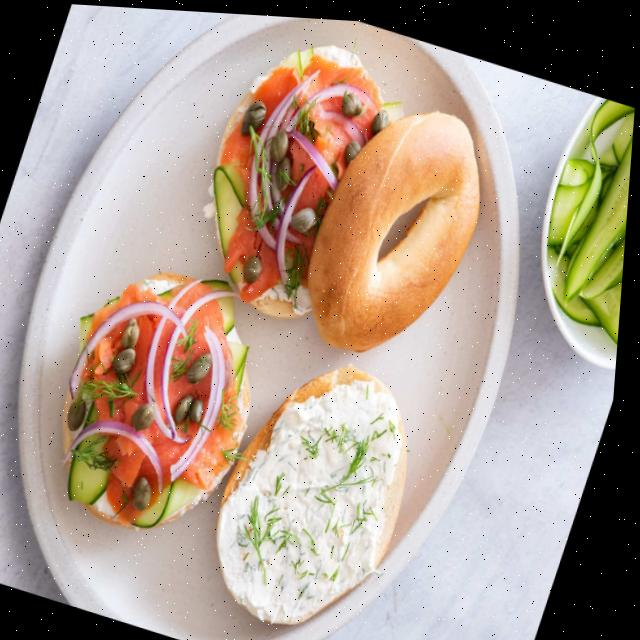Bagel: (311, 105, 481, 346)
